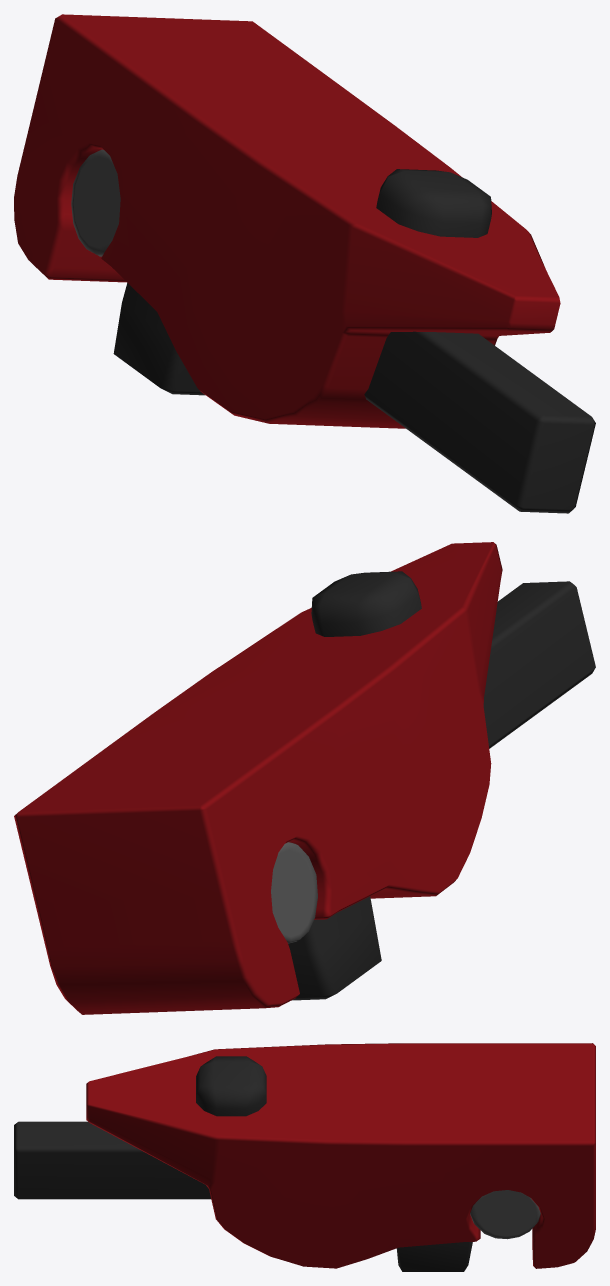
The model's file is Ship_enemy_10_Weapon_L.fbx.
3 views of the same model, one above another, from view 1: azimuth 30°, elevation 25°; view 2: azimuth 150°, elevation 25°; view 3: azimuth 270°, elevation 25° (orthographic). The views are drawn at different scales.
Parts seen in each view (by area): view 1: Ship_enemy_10_Weapon_L; view 2: Ship_enemy_10_Weapon_L; view 3: Ship_enemy_10_Weapon_L.
Boxes of the visible parts, box(x1,y1,x2,y2) form: Ship_enemy_10_Weapon_L: box(14, 14, 595, 513); Ship_enemy_10_Weapon_L: box(14, 542, 595, 1014); Ship_enemy_10_Weapon_L: box(14, 1043, 595, 1271).
Size of the model in its own units: 70.66 by 82.11 by 210.
